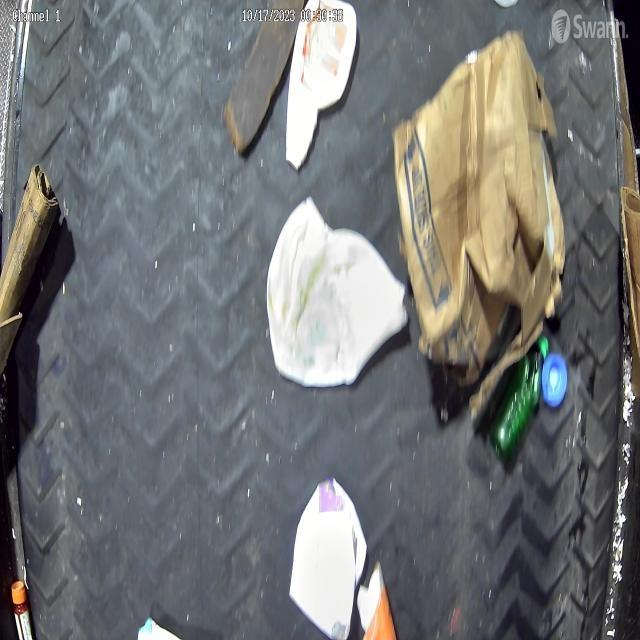milk_jug: (266, 196, 410, 392)
non_white_jug: (285, 0, 356, 171)
